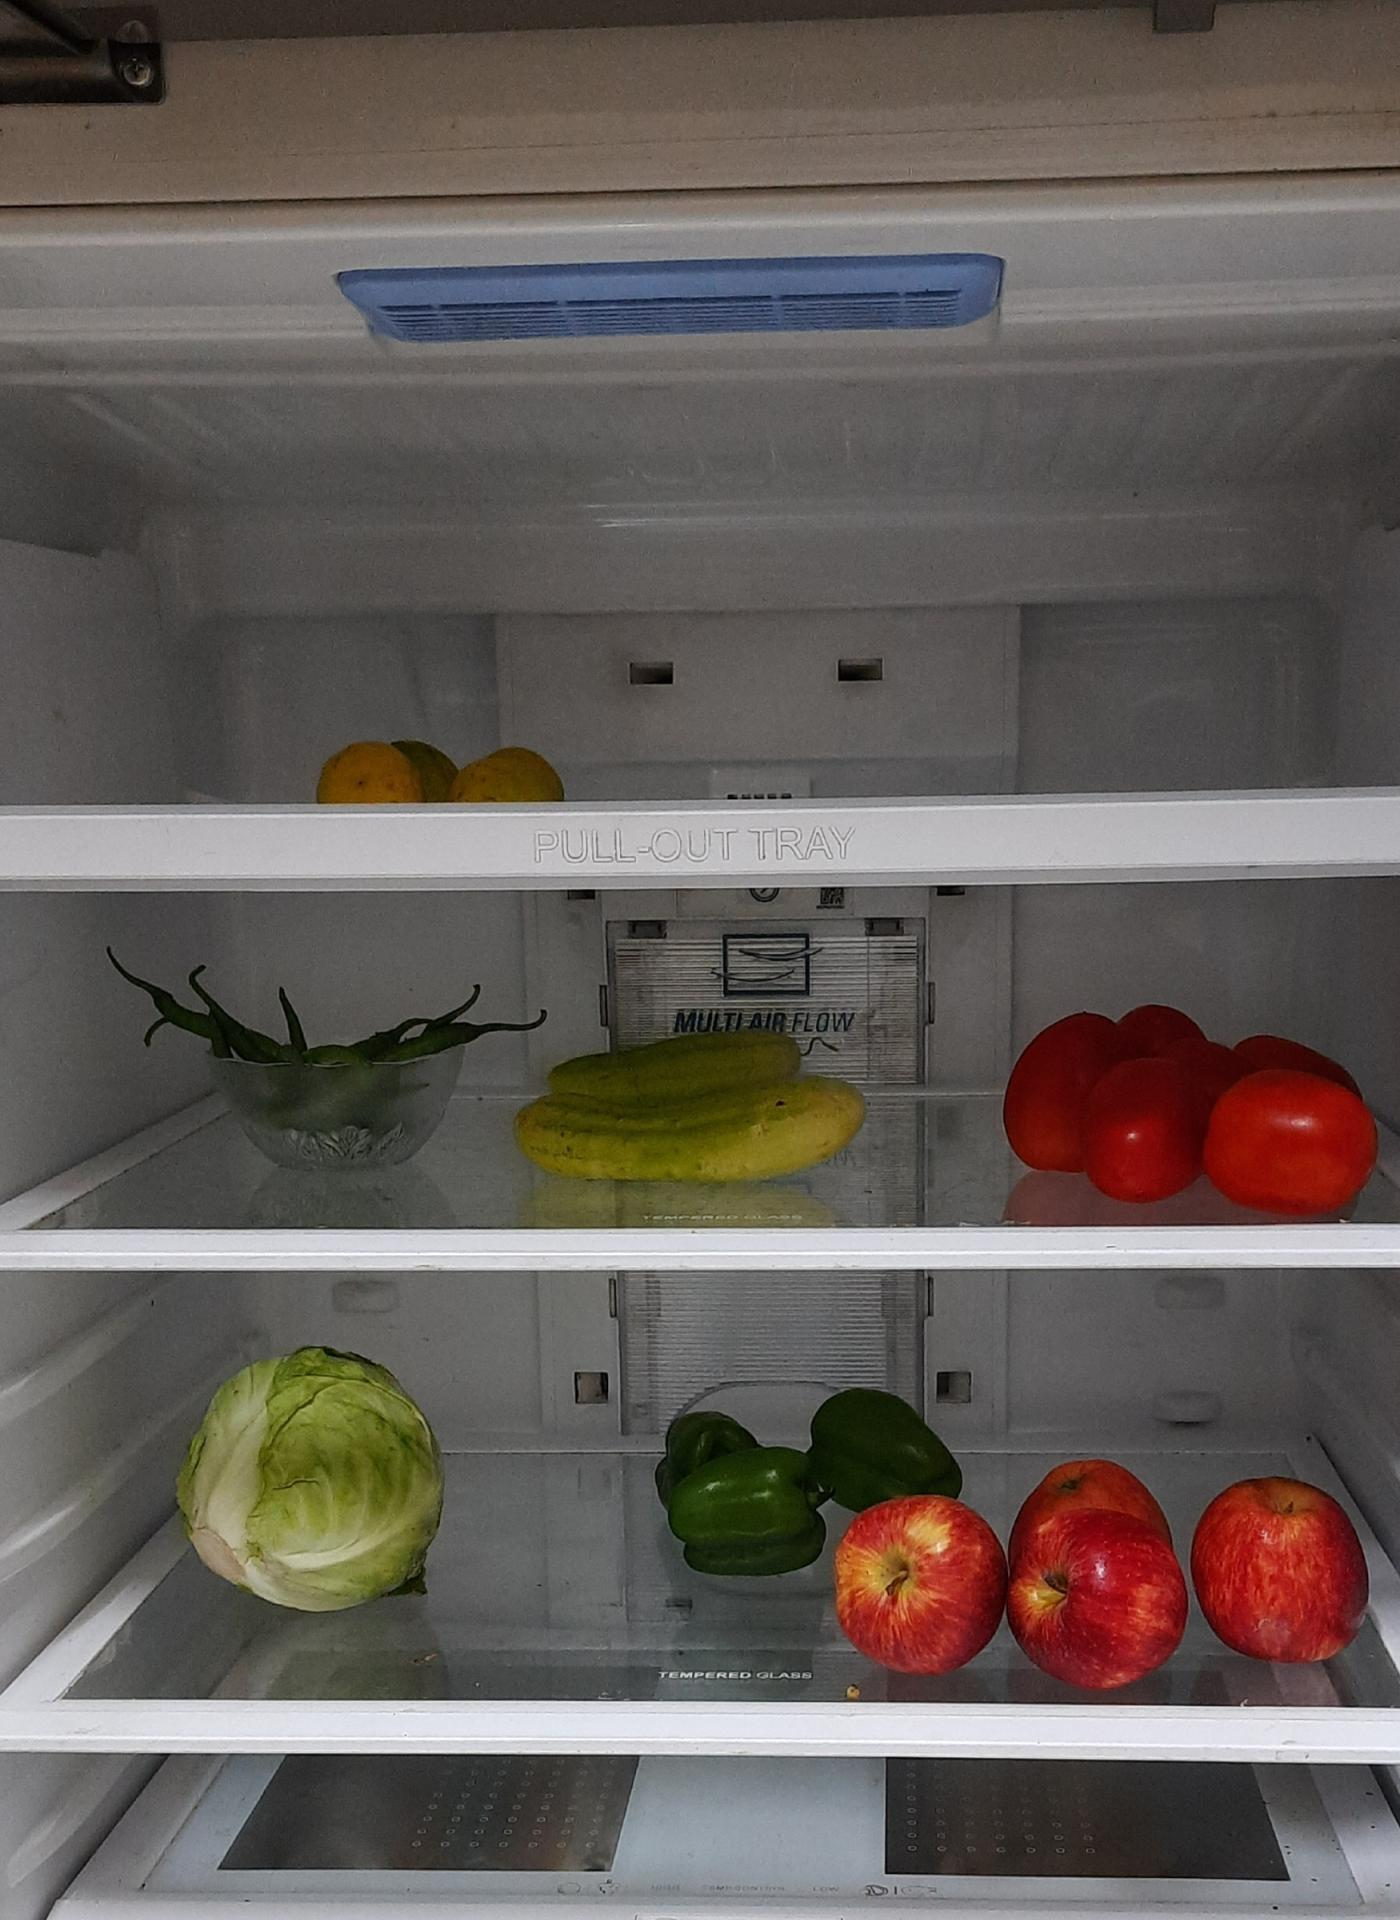apple: (830, 1459, 1372, 1674)
cabbage: (177, 1354, 449, 1617)
capsicum: (649, 1374, 971, 1589)
chillies: (143, 966, 488, 1136)
cucumber: (516, 1029, 874, 1179)
lemon: (309, 724, 562, 809)
tomato: (1009, 1003, 1393, 1209)
